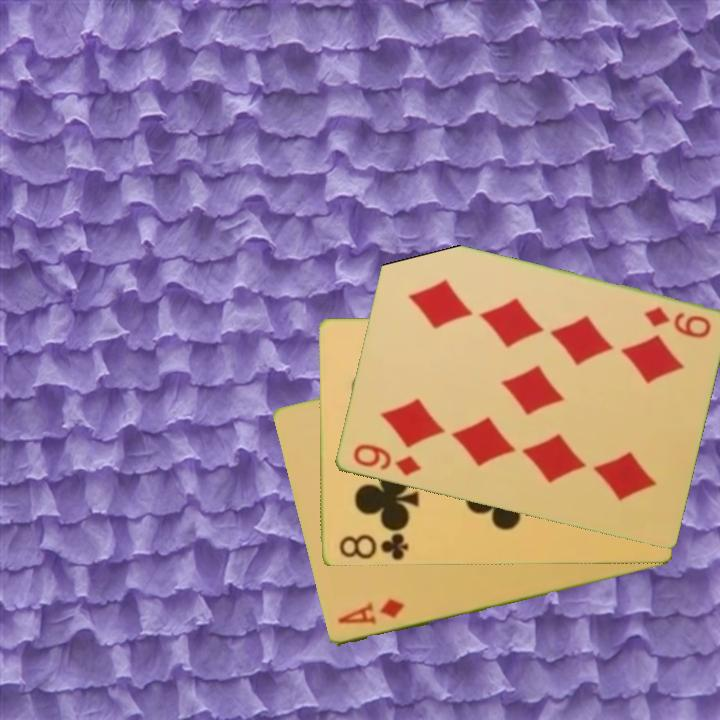8c: (335, 527, 411, 562)
9d: (349, 440, 424, 480), (640, 303, 714, 342)
Ad: (333, 596, 407, 629)
